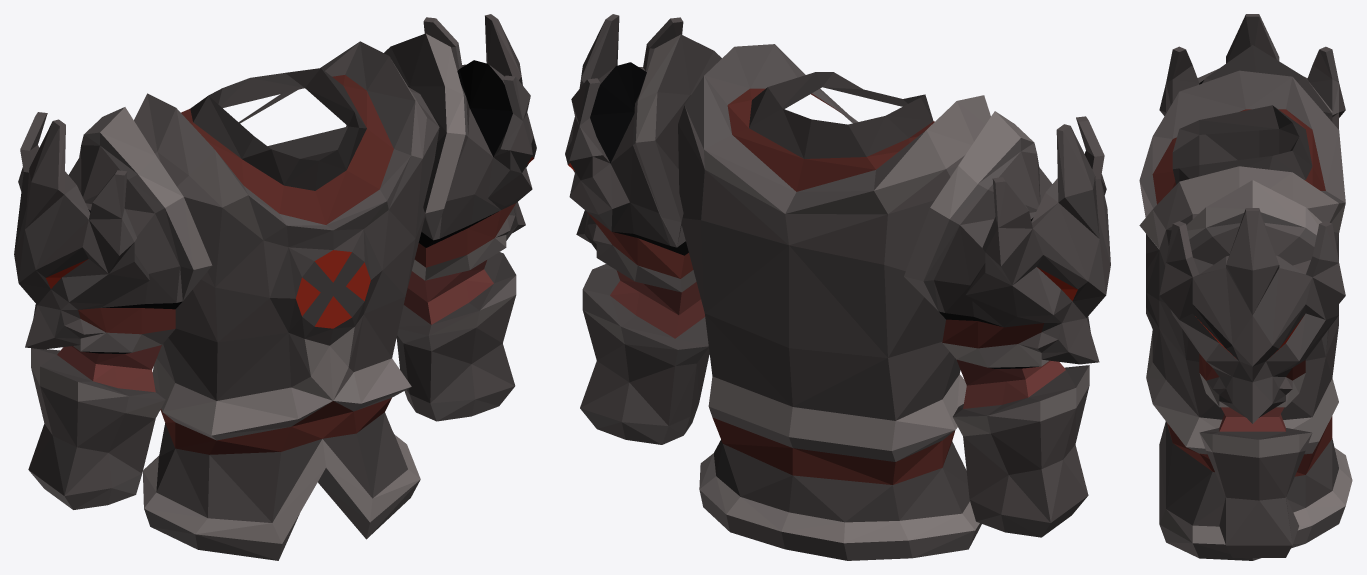
Rendered from player_sanguine_torva_platebody.glb.
The picture shows the model from 3 angles, left to right: view 1: azimuth 30°, elevation 25°; view 2: azimuth 150°, elevation 25°; view 3: azimuth 270°, elevation 25°; orthographic projection. The views are drawn at different scales.
Bounding box in the file's own units: 82.01 × 68 × 32.01.
Materials: 1 (1 with a texture image).
